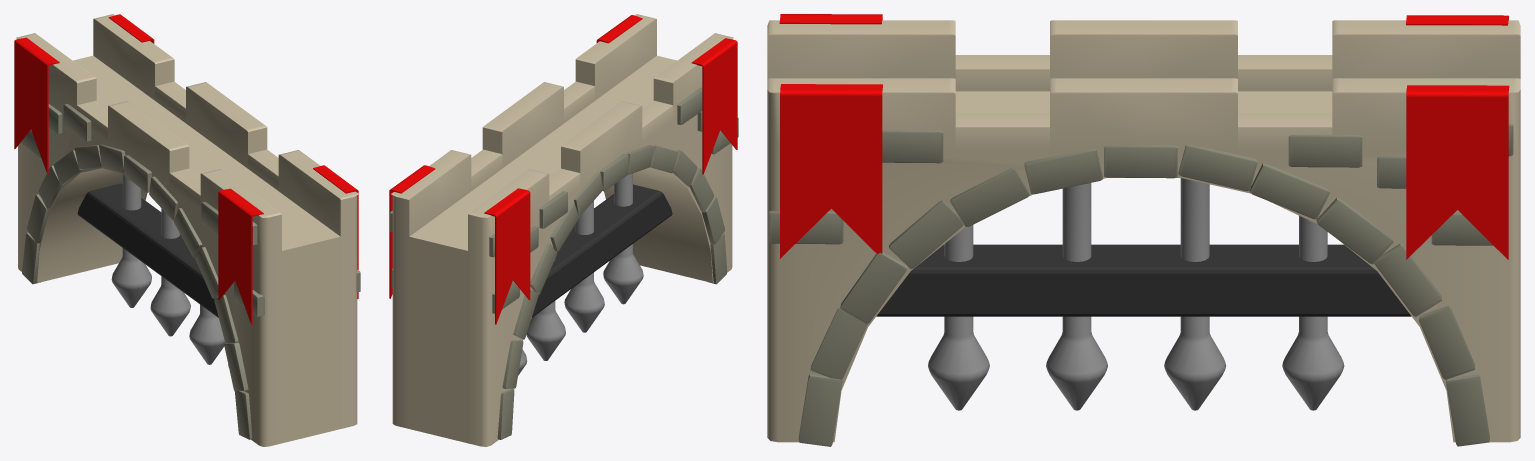
The model's file is Gate_Level2_RedTeam.fbx.
The picture shows the model from 3 angles, left to right: view 1: azimuth 30°, elevation 25°; view 2: azimuth 150°, elevation 25°; view 3: azimuth 270°, elevation 25°; orthographic projection. The views are drawn at different scales.
Visible parts, largest first — view 1: Gate_Level2_RedTeam; view 2: Gate_Level2_RedTeam; view 3: Gate_Level2_RedTeam.
Boxes of the visible parts, x1,y1,x2,y2 form: Gate_Level2_RedTeam: (14,14,360,446); Gate_Level2_RedTeam: (389,14,738,446); Gate_Level2_RedTeam: (767,14,1520,446).
Size of the model in its own units: 955 by 1951 by 3753.
